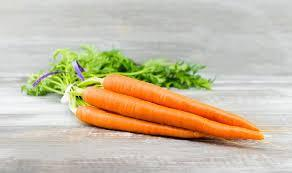Organic: (2, 1, 292, 173)
